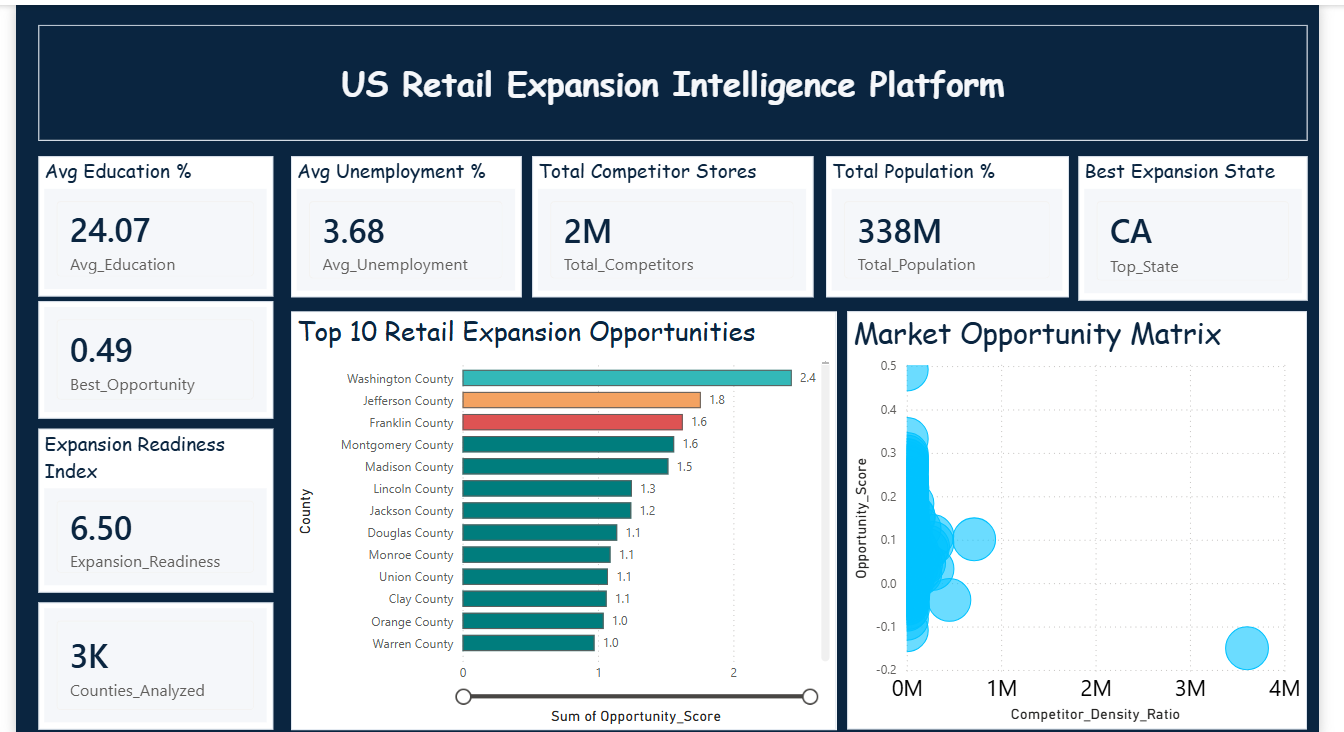

The page's visual inventory and layout, read from the dashboard file:
{"tool":"powerbi","page":{"name":"Executive summary","canvas":[1280,720],"ordinal":0},"visuals":[{"type":"shape","box":[22,19.2,1246,113.9],"z":0},{"type":"cardVisual","fields":{"Data":["RetailData.Counties_Analyzed"]},"box":[22,585.9,230.5,124.9],"z":1000},{"type":"cardVisual","fields":{"Data":["retail_opportunity_final.Best_Opportunity"]},"box":[22,290.9,230.5,115.3],"z":2000},{"type":"cardVisual","title":"Avg Education %","fields":{"Data":["RetailData.Avg_Education"]},"box":[22,148.2,230.5,137.2],"z":4000},{"type":"cardVisual","title":"Avg Unemployment %","fields":{"Data":["RetailData.Avg_Unemployment"]},"box":[270.3,148.2,226.4,138.6],"z":5000},{"type":"cardVisual","title":"Total Population %","fields":{"Data":["RetailData.Total_Population"]},"box":[794.5,148.2,238.8,138.6],"z":6000},{"type":"cardVisual","title":"Best Expansion State","fields":{"Data":["RetailData.Top_State"]},"box":[1042.9,148.2,225,141.3],"z":7000},{"type":"cardVisual","title":"Expansion Readiness Index","fields":{"Data":["RetailData.Expansion_Readiness"]},"box":[22,415.8,230.5,160.5],"z":8000},{"type":"cardVisual","title":"Total Competitor Stores","fields":{"Data":["RetailData.Total_Competitors"]},"box":[506.3,148.2,275.8,138.6],"z":8001},{"type":"clusteredBarChart","title":"Top 10 Retail Expansion Opportunities","fields":{"Category":["RetailData.County"],"Y":["Sum(retail_opportunity_final.Opportunity_Score)"]},"box":[269.9,300.6,535,411],"z":8002},{"type":"scatterChart","title":"Market Opportunity Matrix","fields":{"X":["retail_opportunity_final.Competitor_Density_Ratio"],"Y":["retail_opportunity_final.Opportunity_Score"],"Size":["Count(retail_opportunity_final.Population_2023)"]},"box":[816.5,300.5,451.5,410.3],"z":8003}]}

Visuals, with their boxes in screenshot pixels (x1, y1, x2, y2):
shape: 12, 16, 1307, 135
cardVisual - RetailData.Counties_Analyzed: 12, 605, 252, 731
cardVisual - retail_opportunity_final.Best_Opportunity: 12, 299, 252, 418
"Avg Education %" cardVisual: 12, 150, 252, 293
"Avg Unemployment %" cardVisual: 270, 150, 505, 294
"Total Population %" cardVisual: 815, 150, 1063, 294
"Best Expansion State" cardVisual: 1073, 150, 1307, 297
"Expansion Readiness Index" cardVisual: 12, 428, 252, 595
"Total Competitor Stores" cardVisual: 515, 150, 802, 294
"Top 10 Retail Expansion Opportunities" clusteredBarChart: 270, 309, 826, 731
"Market Opportunity Matrix" scatterChart: 838, 309, 1307, 731
